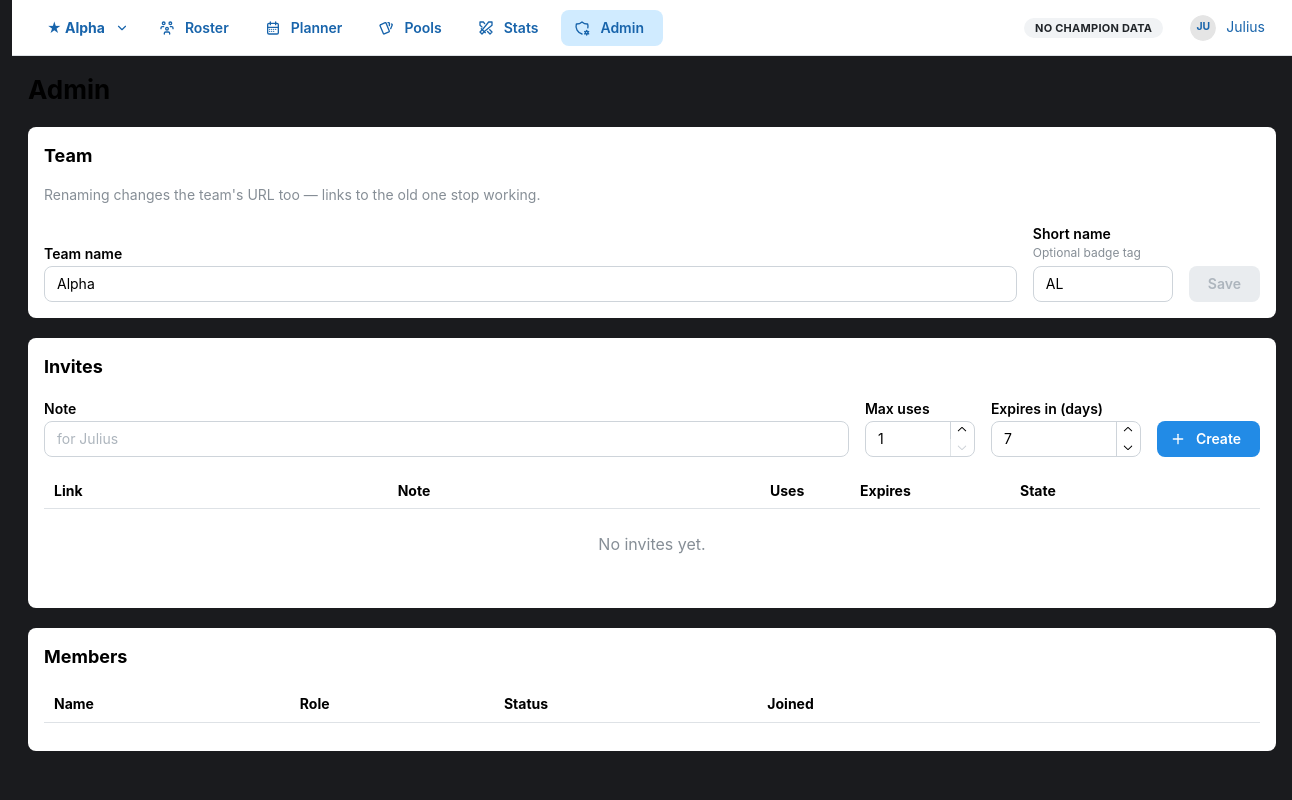
it: renaming from the admin page › the shell follows the new slug and shows the new name
Replace the text in the field labelled "Team name" with "Bravo Squad" at (530, 284), box [44,266,1017,302]
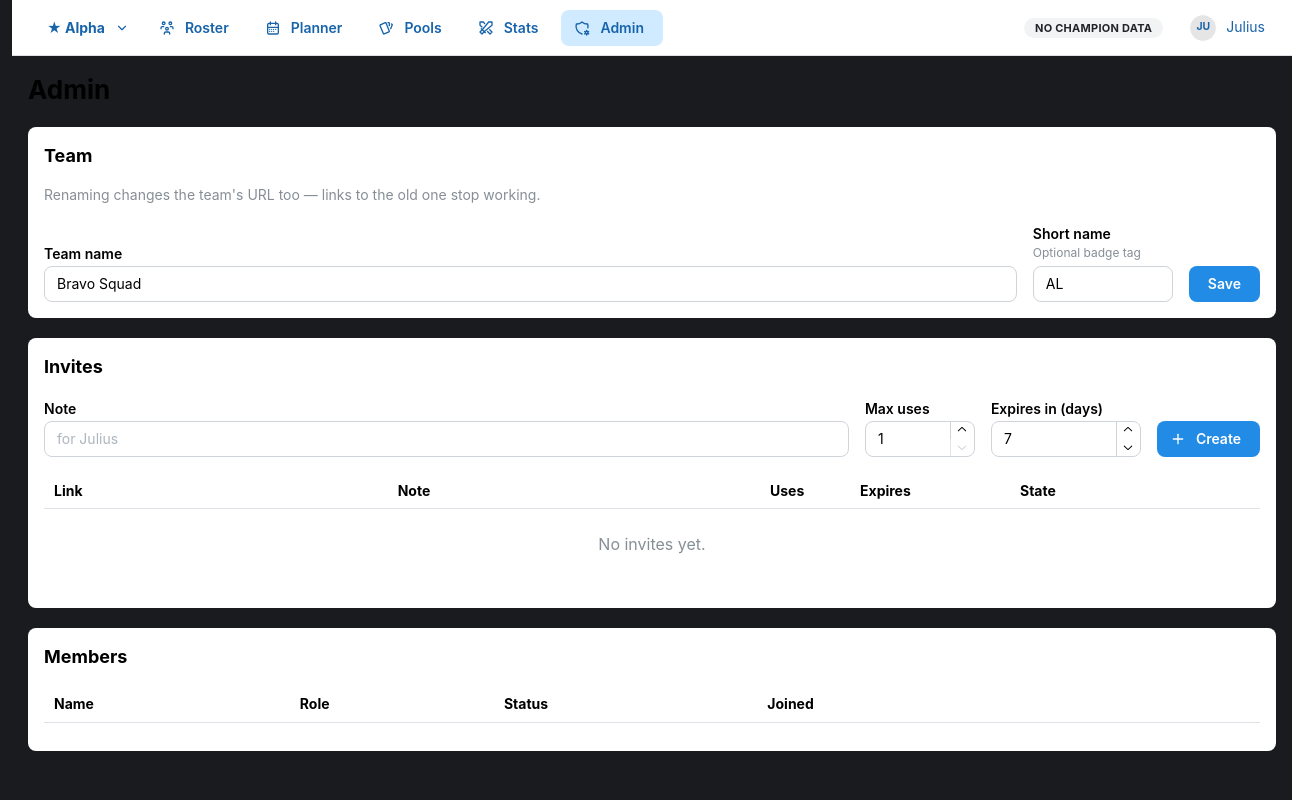
Click the button "Save" at (1224, 284), box [1189,266,1260,302]
(page scrolled)
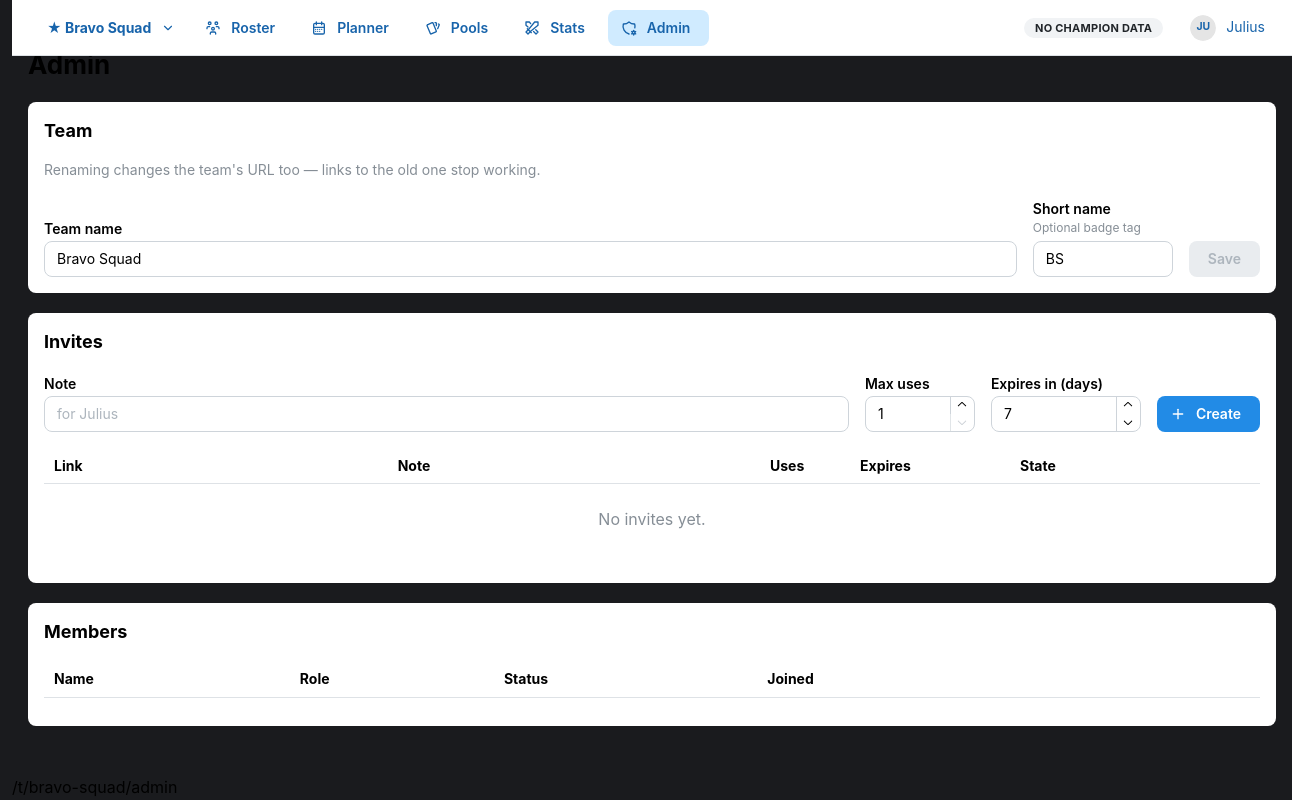
Check: the button "★ Bravo Squad" is shown, box [28,10,188,46]
Check: the text with test id "path" reads "/t/bravo-squad/admin", box [12,777,177,797]
